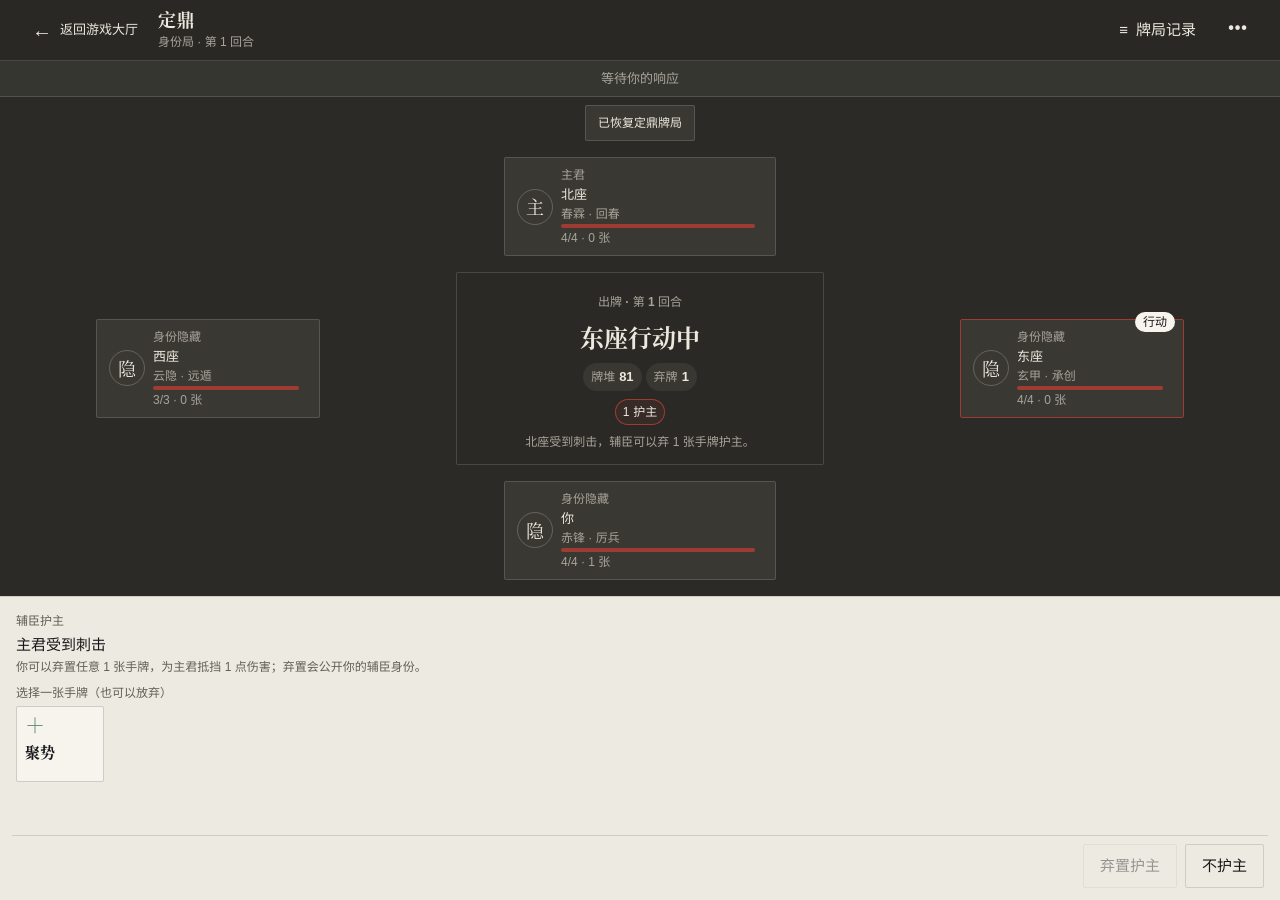
DingDingGame active skill flow › lets the human loyalist choose a card for the protect decision
Expected: the text "辅臣护主" is shown, [16, 614, 64, 628]
Expected: the text "主君受到刺击" is shown, [16, 636, 106, 652]
Click the button with aria-label "选择「聚势」护主" at (60, 744), box [16, 706, 104, 782]
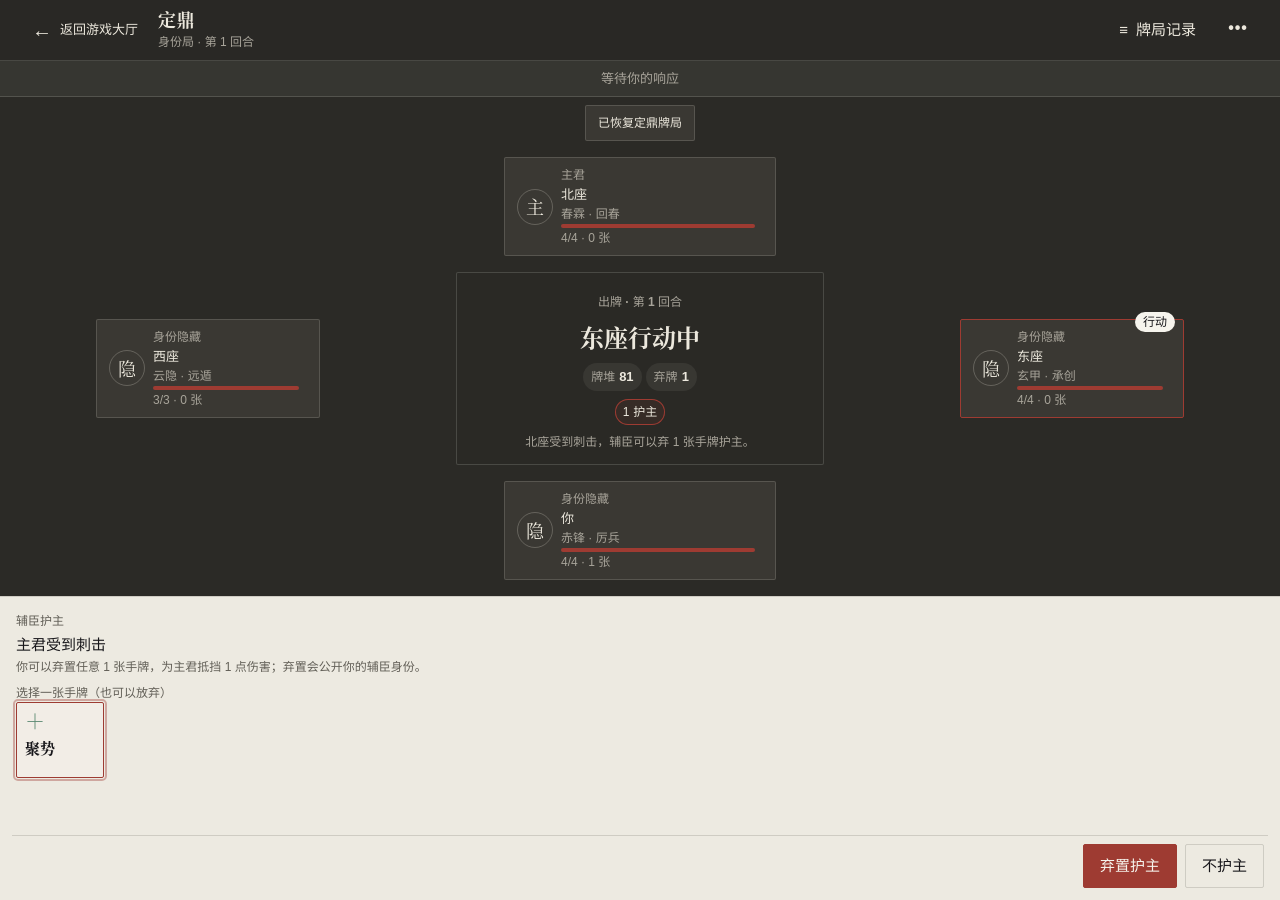
Click the button "弃置护主" at (1130, 866), box [1083, 844, 1177, 888]
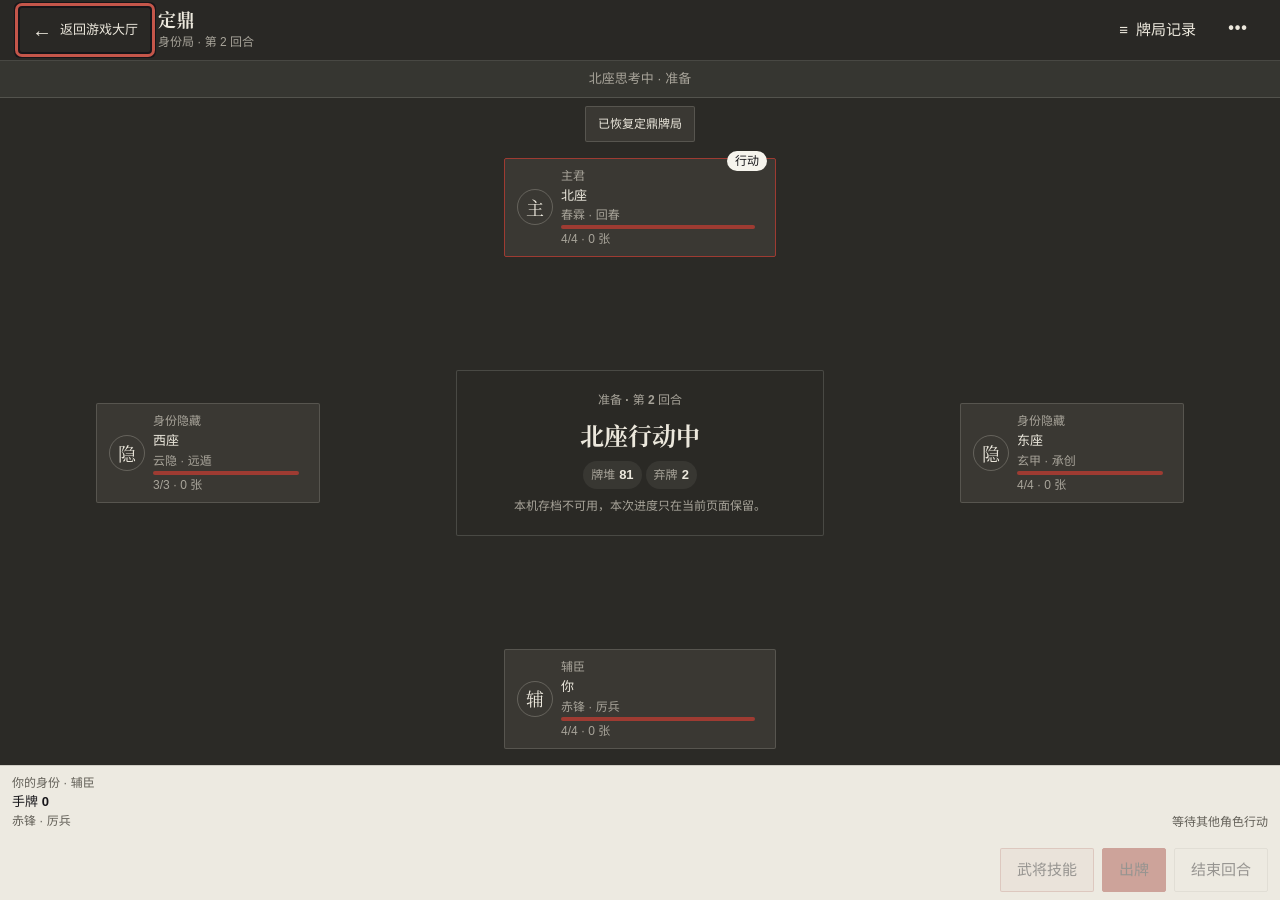
Expected: the text "辅臣护主" is gone
